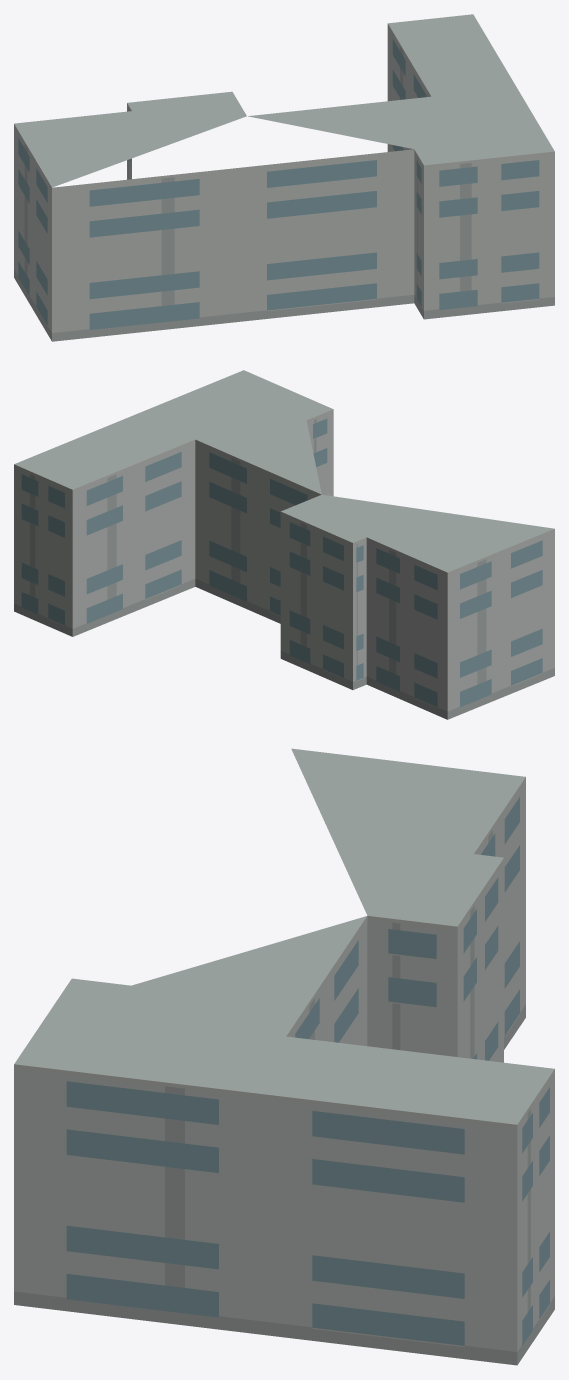
The model's file is residential-a6d6bf59-f897-4656-8372-c51df970152a.glb.
3 renders of one model, top to bottom at view 1: azimuth 30°, elevation 25°; view 2: azimuth 150°, elevation 25°; view 3: azimuth 270°, elevation 25°, orthographic. The views are drawn at different scales.
Visible parts, largest first — view 1: residential-a6d6bf59-f897-4656-8372-c51df970152a.tmp; view 2: residential-a6d6bf59-f897-4656-8372-c51df970152a.tmp; view 3: residential-a6d6bf59-f897-4656-8372-c51df970152a.tmp.
Boxes of the visible parts, <box> form: residential-a6d6bf59-f897-4656-8372-c51df970152a.tmp: <box>14,14,554,341</box>; residential-a6d6bf59-f897-4656-8372-c51df970152a.tmp: <box>14,370,554,719</box>; residential-a6d6bf59-f897-4656-8372-c51df970152a.tmp: <box>14,748,554,1365</box>.
Bounding box in the file's own units: 51.15 × 15.25 × 31.07.
